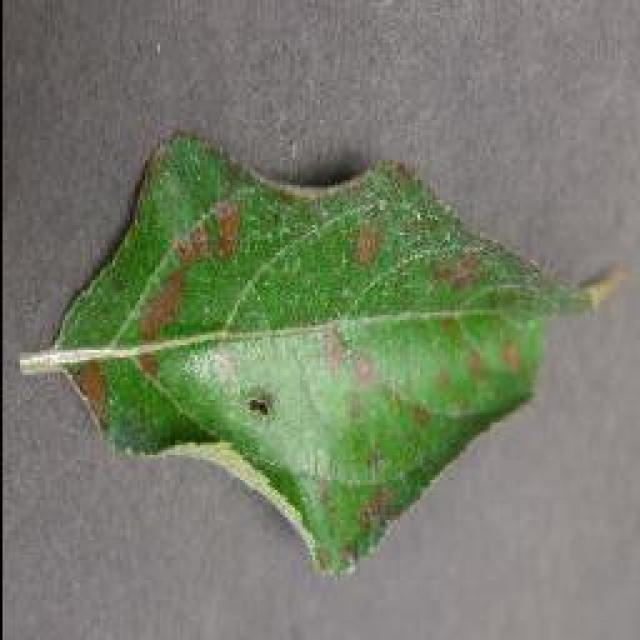apple healthy: (20, 128, 628, 580)
